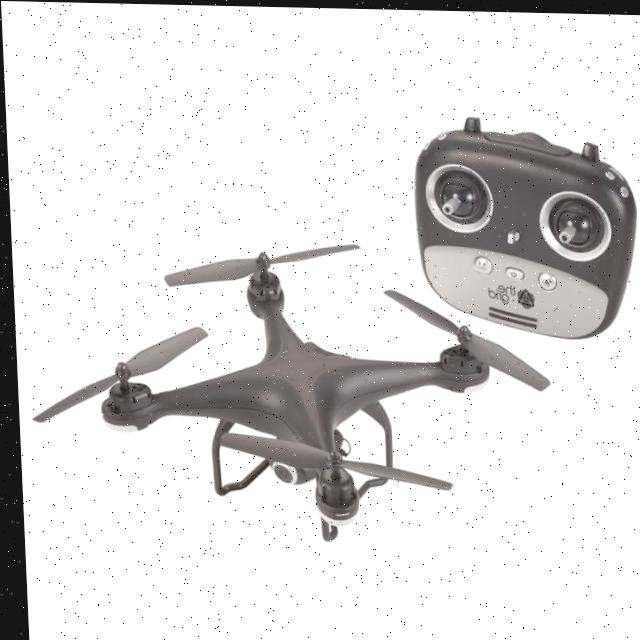drone: (10, 218, 553, 559)
